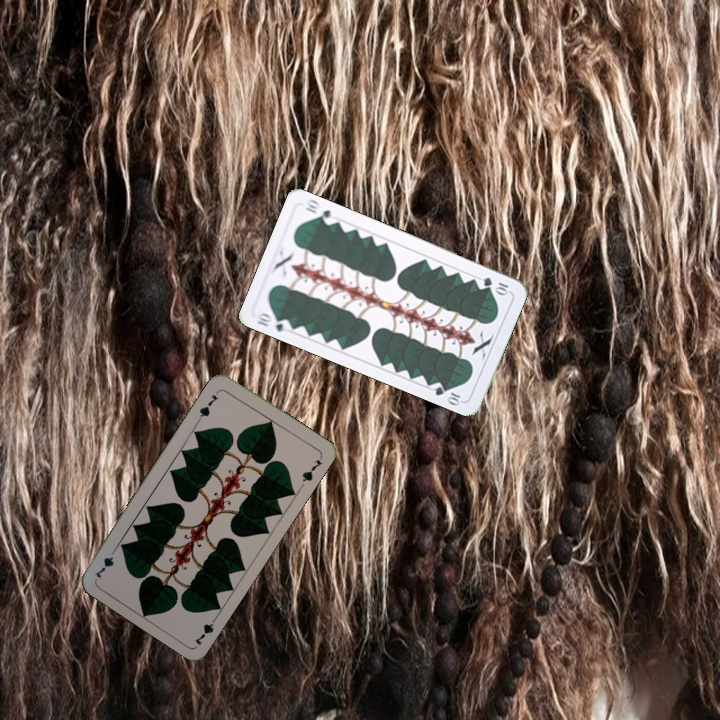G10: (252, 308, 294, 335), (479, 273, 512, 298)
G7: (190, 611, 221, 648), (195, 390, 221, 422)
